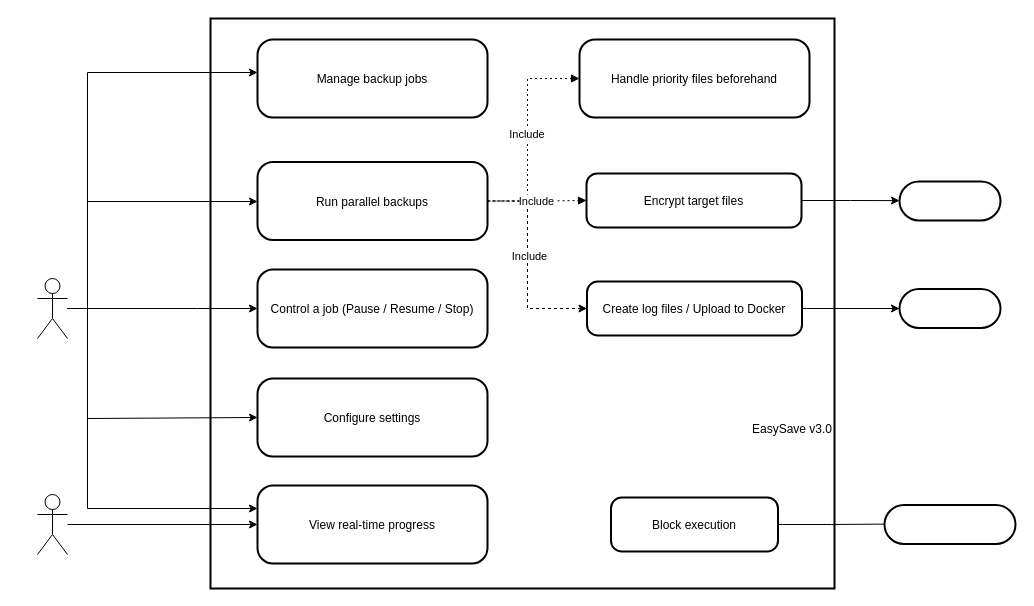
Some shapes in this 1034 by 606 pixel diagram are drawn without their labels. Here are the shapes that lost their labels. From the top down, the box of each, then its label:
(898, 180, 1001, 221): CryptoSoft
(36, 278, 68, 338): User
(898, 288, 1001, 328): EasyLog
(36, 494, 68, 554): Distant Client
(883, 504, 1016, 544): Business software
